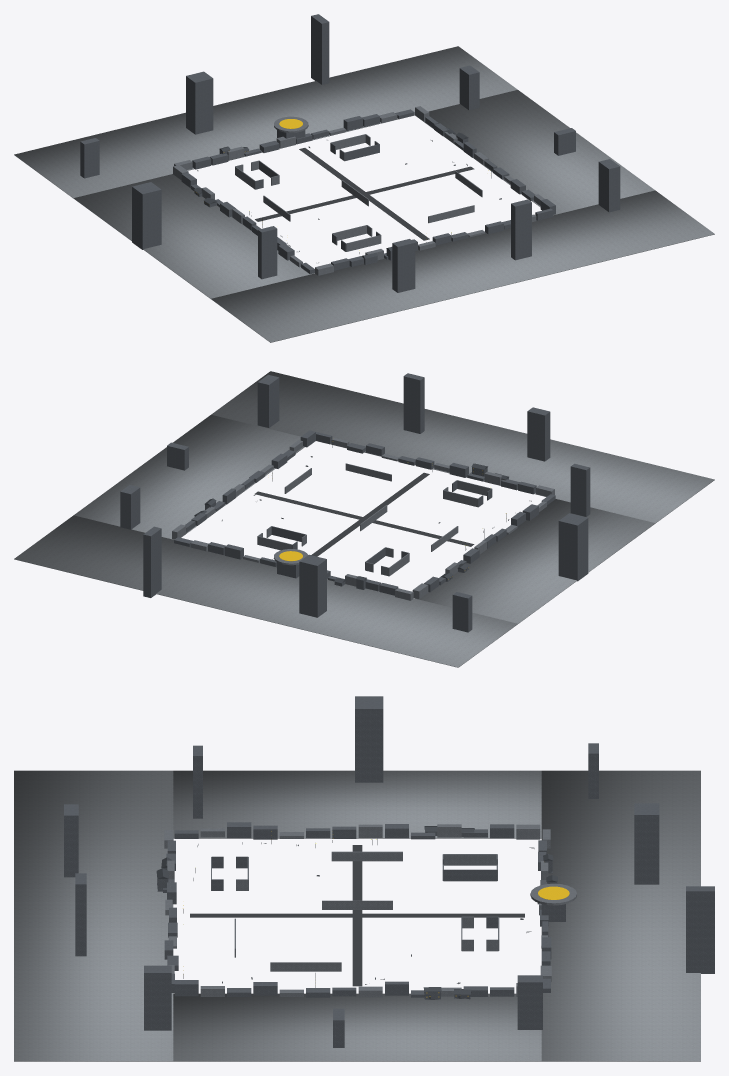
Rendered from okujou-lod2.glb.
The picture shows the model from 3 angles, top to bottom: view 1: azimuth 30°, elevation 25°; view 2: azimuth 150°, elevation 25°; view 3: azimuth 270°, elevation 25°; orthographic projection. The views are drawn at different scales.
Visible parts, largest first — view 1: HB_okujou_LOD2_terrain, HB_okujou_LOD2_wall_alt, HB_okujou_LOD2_wall, HB_okujou_LOD2_road; view 2: HB_okujou_LOD2_terrain, HB_okujou_LOD2_wall_alt, HB_okujou_LOD2_wall, HB_okujou_LOD2_road, HB_okujou_LOD2_trim; view 3: HB_okujou_LOD2_terrain, HB_okujou_LOD2_wall_alt, HB_okujou_LOD2_wall, HB_okujou_LOD2_road, HB_okujou_LOD2_trim.
Boxes of the visible parts, bbox=[...] form: HB_okujou_LOD2_terrain: bbox=[14, 46, 714, 342]; HB_okujou_LOD2_wall_alt: bbox=[80, 14, 620, 292]; HB_okujou_LOD2_wall: bbox=[173, 106, 544, 275]; HB_okujou_LOD2_road: bbox=[255, 148, 474, 240]; HB_okujou_LOD2_terrain: bbox=[14, 371, 714, 667]; HB_okujou_LOD2_wall_alt: bbox=[120, 373, 590, 632]; HB_okujou_LOD2_wall: bbox=[172, 438, 554, 600]; HB_okujou_LOD2_road: bbox=[255, 472, 474, 556]; HB_okujou_LOD2_trim: bbox=[194, 442, 531, 583]; HB_okujou_LOD2_terrain: bbox=[14, 770, 700, 1061]; HB_okujou_LOD2_wall_alt: bbox=[64, 696, 714, 1047]; HB_okujou_LOD2_wall: bbox=[164, 824, 576, 997]; HB_okujou_LOD2_road: bbox=[190, 845, 524, 986]; HB_okujou_LOD2_trim: bbox=[156, 826, 557, 999].
Bounding box in the file's own units: 561 × 74.54 × 571.
8 materials, 6 textured.
